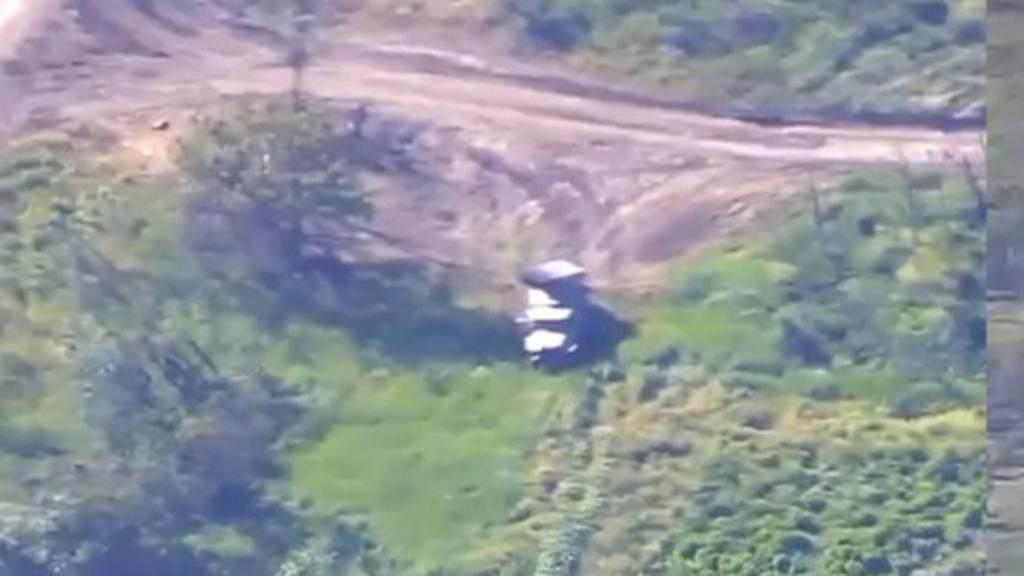MLRS: (510, 256, 592, 368)
